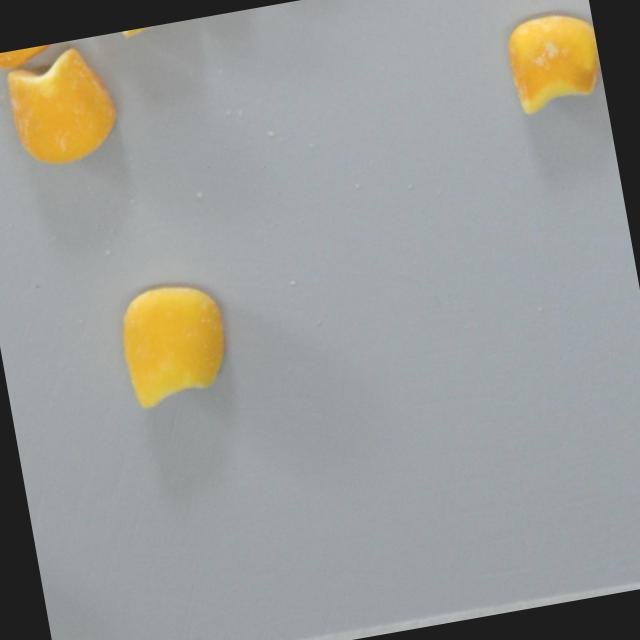no_canjicado: (111, 275, 239, 414), (0, 39, 76, 72)
pelicula: (1, 42, 123, 173), (500, 5, 606, 117)
